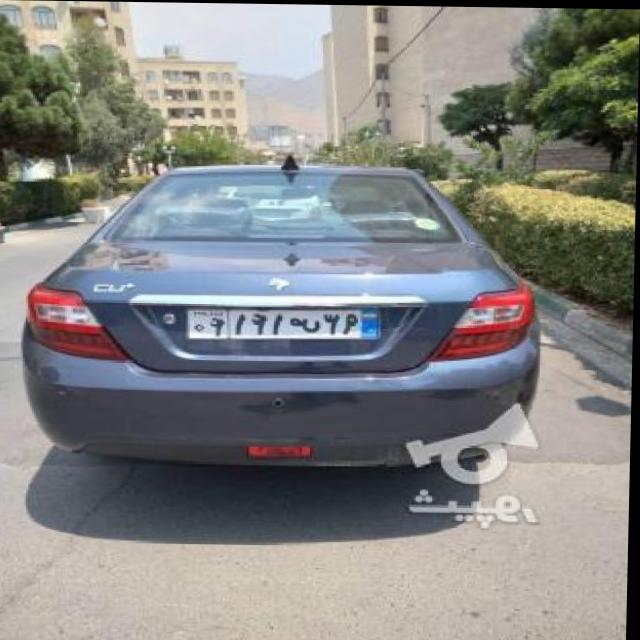licence: (191, 304, 385, 335)
